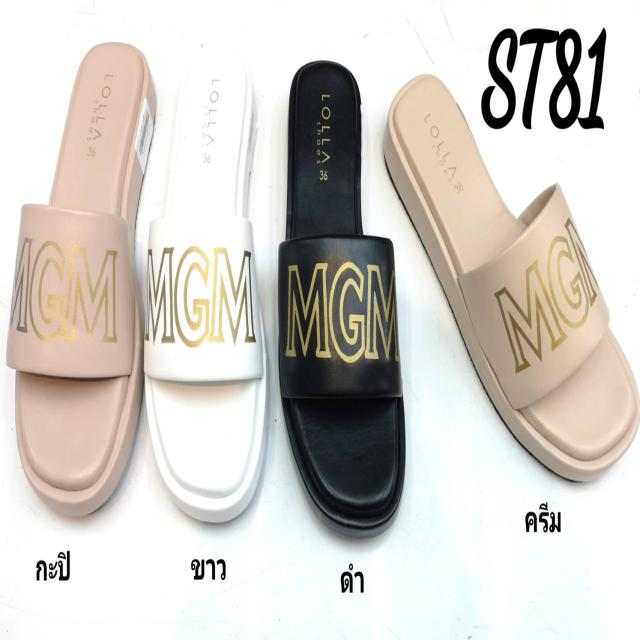black: (278, 60, 407, 532)
cream: (388, 72, 640, 492)
kapi: (17, 41, 156, 512)
white: (142, 44, 272, 520)
